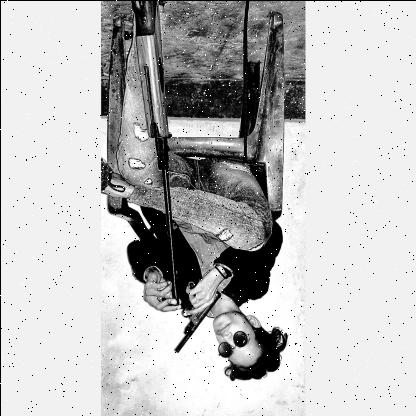rifle: (128, 0, 179, 307), (172, 278, 221, 353)
